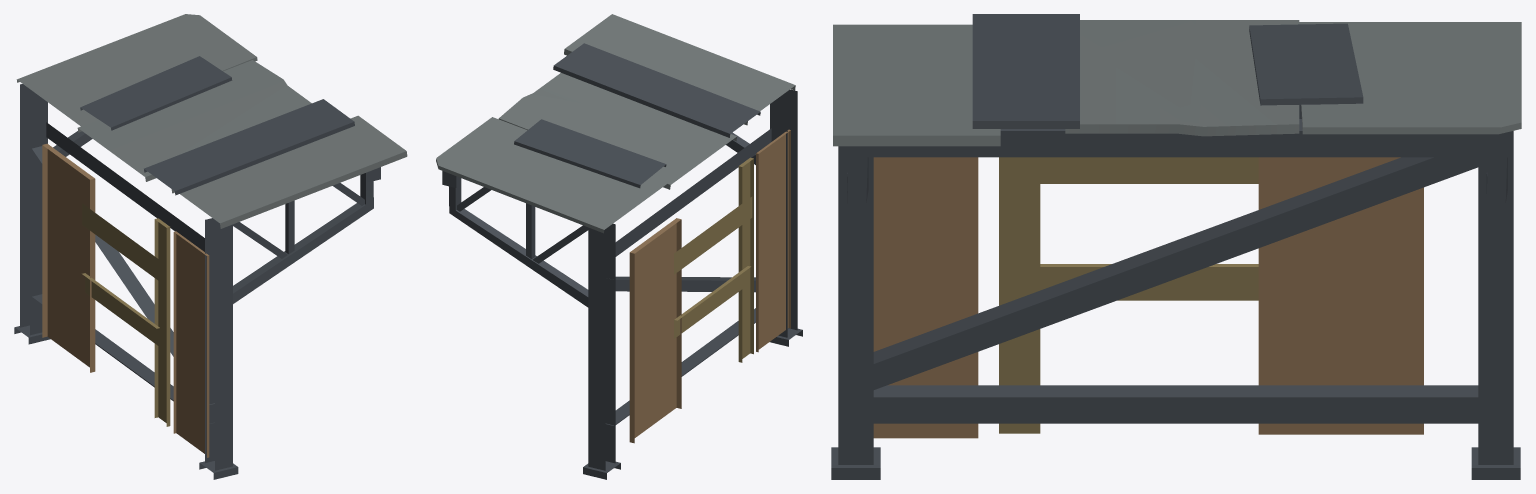
Rendered from tent_02.fbx.
The picture shows the model from 3 angles, left to right: view 1: azimuth 30°, elevation 25°; view 2: azimuth 150°, elevation 25°; view 3: azimuth 270°, elevation 25°; orthographic projection. The views are drawn at different scales.
Parts seen in each view (by area): view 1: tent_02; view 2: tent_02; view 3: tent_02.
Boxes of the visible parts, bbox=[...] form: tent_02: bbox=[14, 14, 407, 479]; tent_02: bbox=[436, 14, 802, 479]; tent_02: bbox=[831, 14, 1521, 479].
Size of the model in its own units: 5.37 by 7.42 by 9.44.
